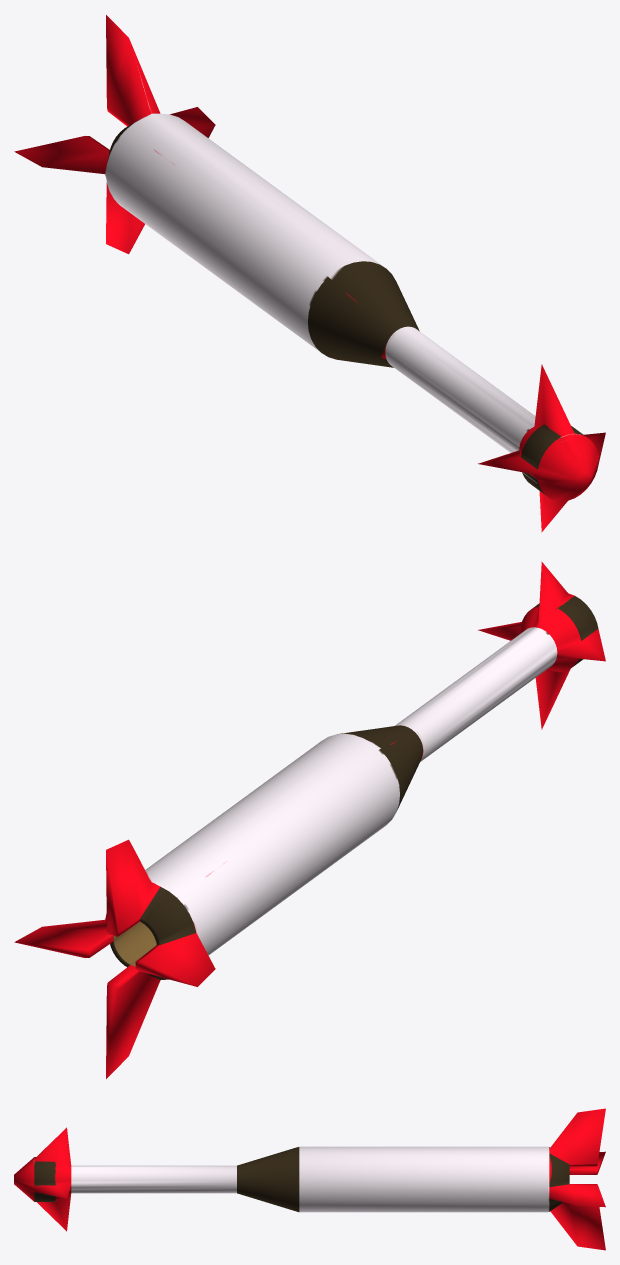
The model's file is missile.obj.
3 renders of one model, top to bottom at view 1: azimuth 30°, elevation 25°; view 2: azimuth 150°, elevation 25°; view 3: azimuth 270°, elevation 25°, orthographic. The views are drawn at different scales.
Parts seen in each view (by area): view 1: Cylinder; view 2: Cylinder; view 3: Cylinder.
Boxes of the visible parts, <box> form: Cylinder: <box>14,15,605,532</box>; Cylinder: <box>14,561,605,1078</box>; Cylinder: <box>14,1108,605,1250</box>.
Size of the model in its own units: 0.4982 by 0.5948 by 2.25.
1 material, 1 textured.
